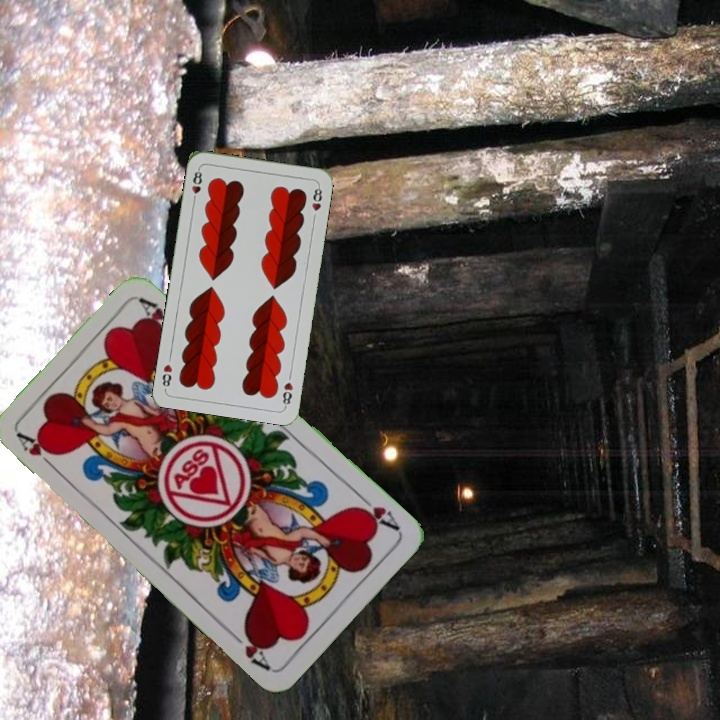H8: (188, 165, 205, 205), (279, 378, 296, 409)
HA: (349, 489, 402, 533), (13, 429, 61, 475)
